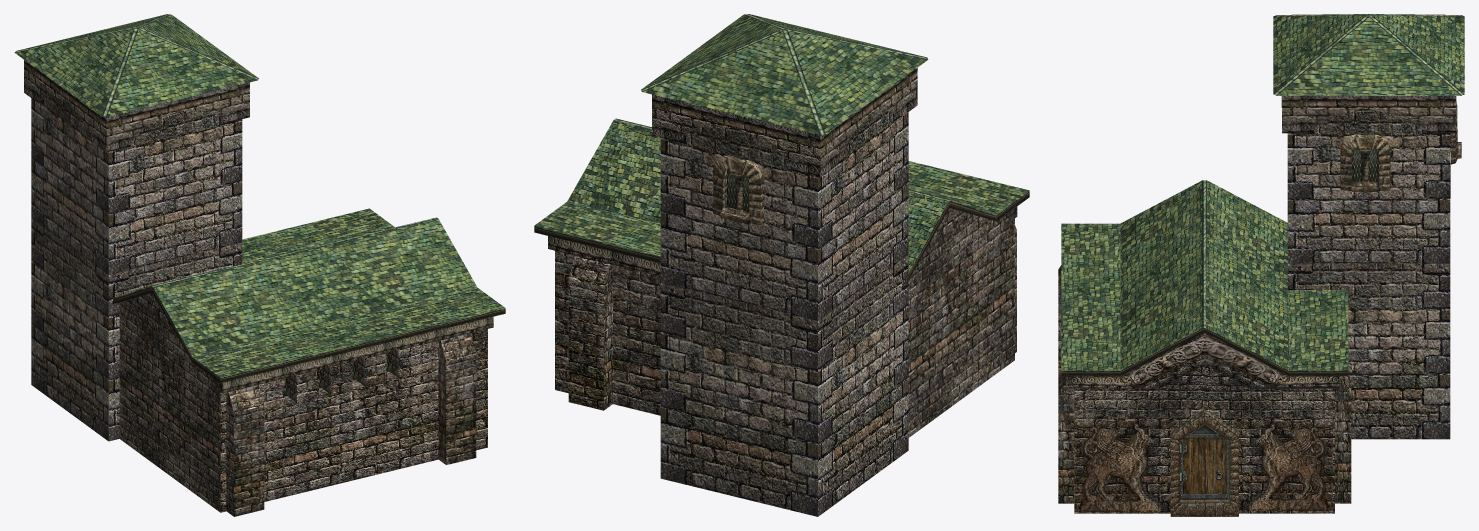
Rendered from tn5_xmen.glb.
3 views of the same model, side by side, from view 1: azimuth 30°, elevation 25°; view 2: azimuth 150°, elevation 25°; view 3: azimuth 270°, elevation 25° (orthographic). The views are drawn at different scales.
Visible parts, largest first — view 1: tn5_xmen-col; view 2: tn5_xmen-col; view 3: tn5_xmen-col.
Part boxes in pixels (x1=…): tn5_xmen-col: x1=14, y1=14, x2=505, y2=516; tn5_xmen-col: x1=534, y1=14, x2=1029, y2=516; tn5_xmen-col: x1=1058, y1=14, x2=1464, y2=516.
Size of the model in its own units: 13.79 by 16.15 by 15.28.
Materials: 15 (15 with a texture image).
